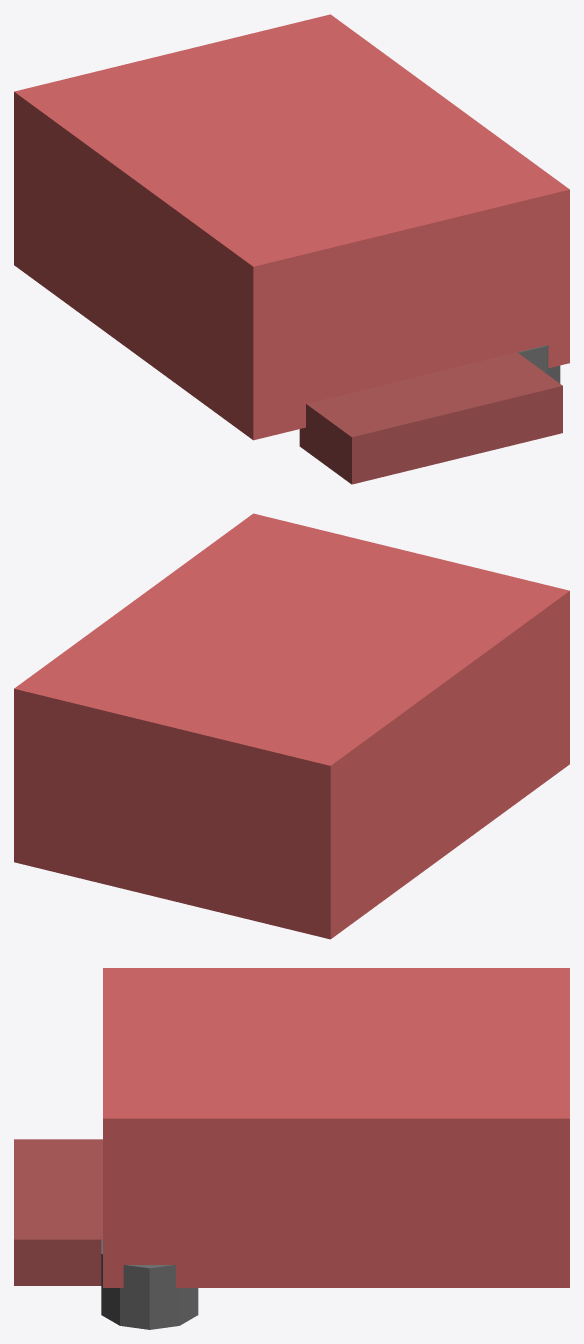
File: pickup_fuel_can.glb
3 renders of one model, top to bottom at view 1: azimuth 30°, elevation 25°; view 2: azimuth 150°, elevation 25°; view 3: azimuth 270°, elevation 25°, orthographic. The views are drawn at different scales.
Visible parts, largest first — view 1: fuel_can, fuel_handle, fuel_cap; view 2: fuel_can; view 3: fuel_can, fuel_handle, fuel_cap.
Part boxes in pixels (x1=…): fuel_can: x1=14, y1=14, x2=569, y2=440; fuel_handle: x1=299, y1=352, x2=562, y2=484; fuel_cap: x1=517, y1=345, x2=560, y2=383; fuel_can: x1=14, y1=513, x2=569, y2=939; fuel_can: x1=103, y1=968, x2=569, y2=1287; fuel_handle: x1=14, y1=1139, x2=102, y2=1285; fuel_cap: x1=101, y1=1239, x2=198, y2=1329.
Size of the model in its own units: 0.43 by 0.27 by 0.655.
